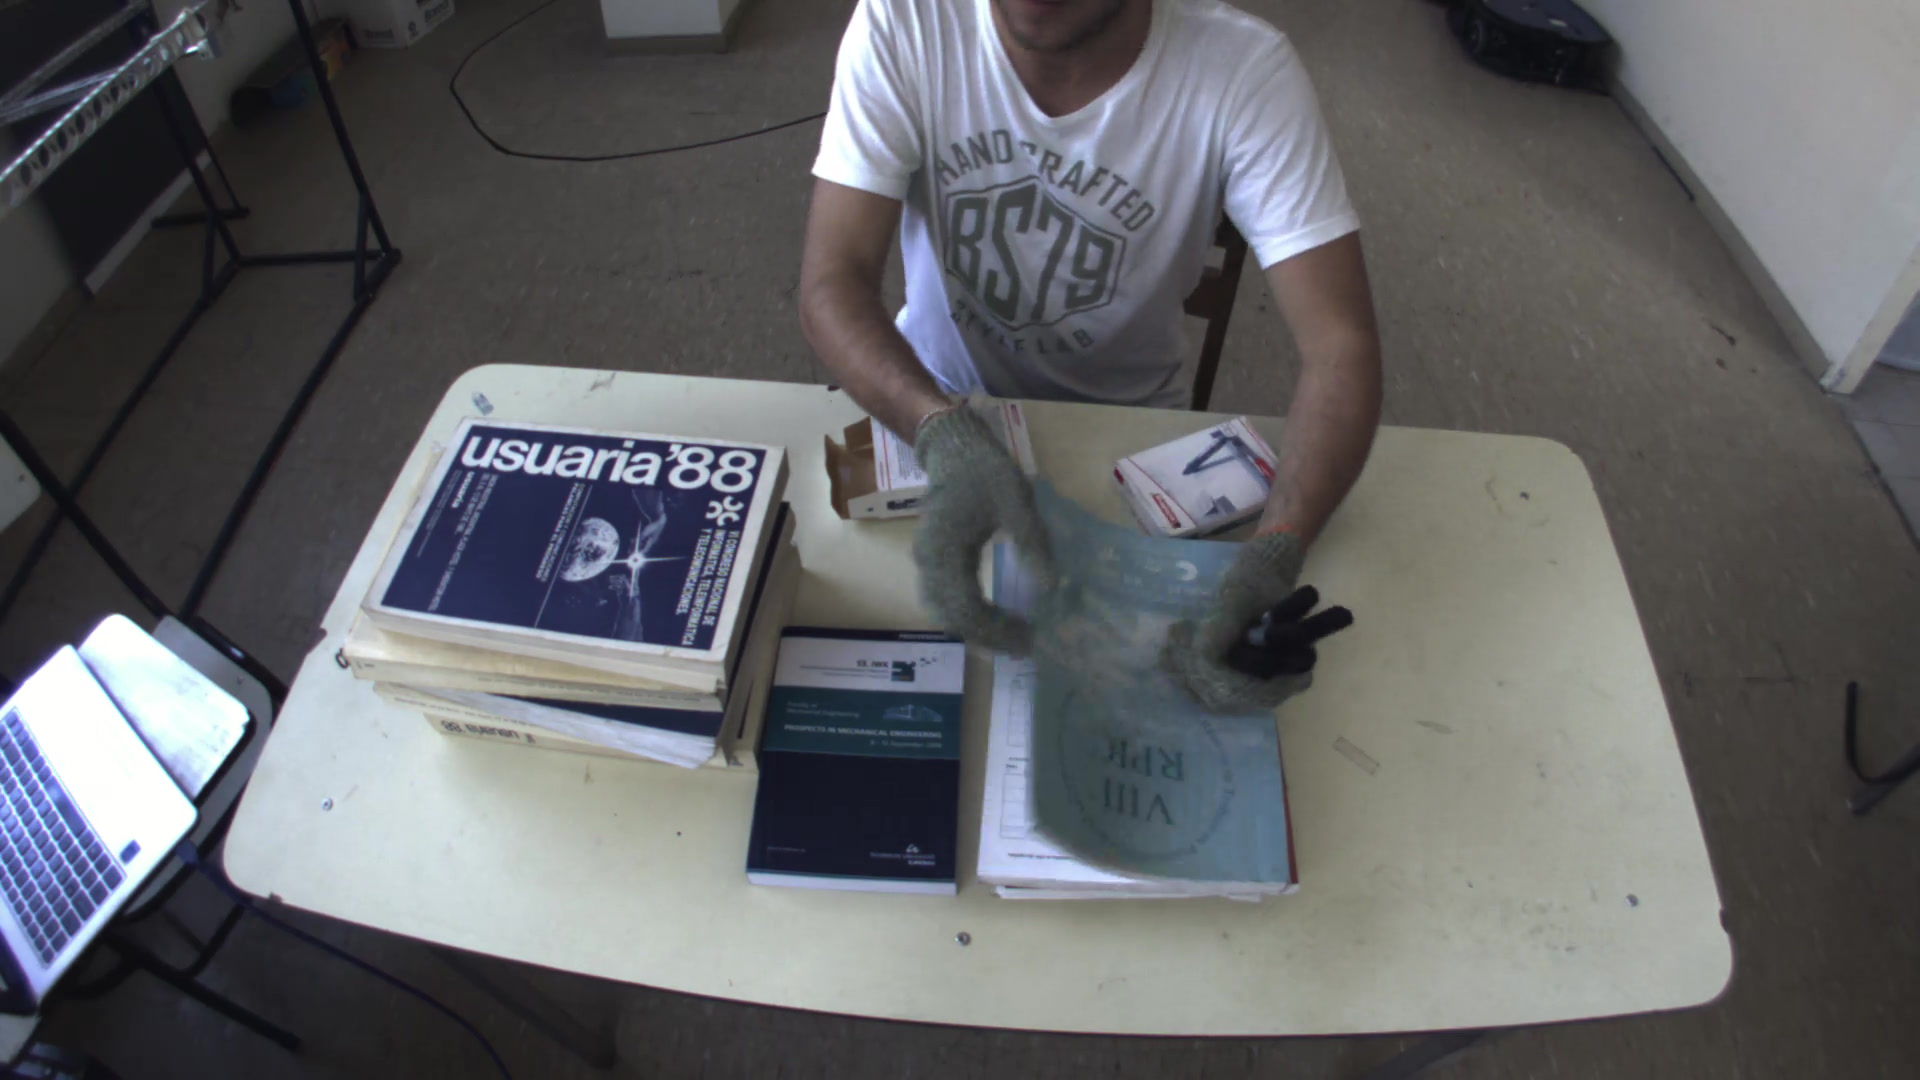hand: (893, 389, 1033, 640), (1189, 522, 1354, 694)
